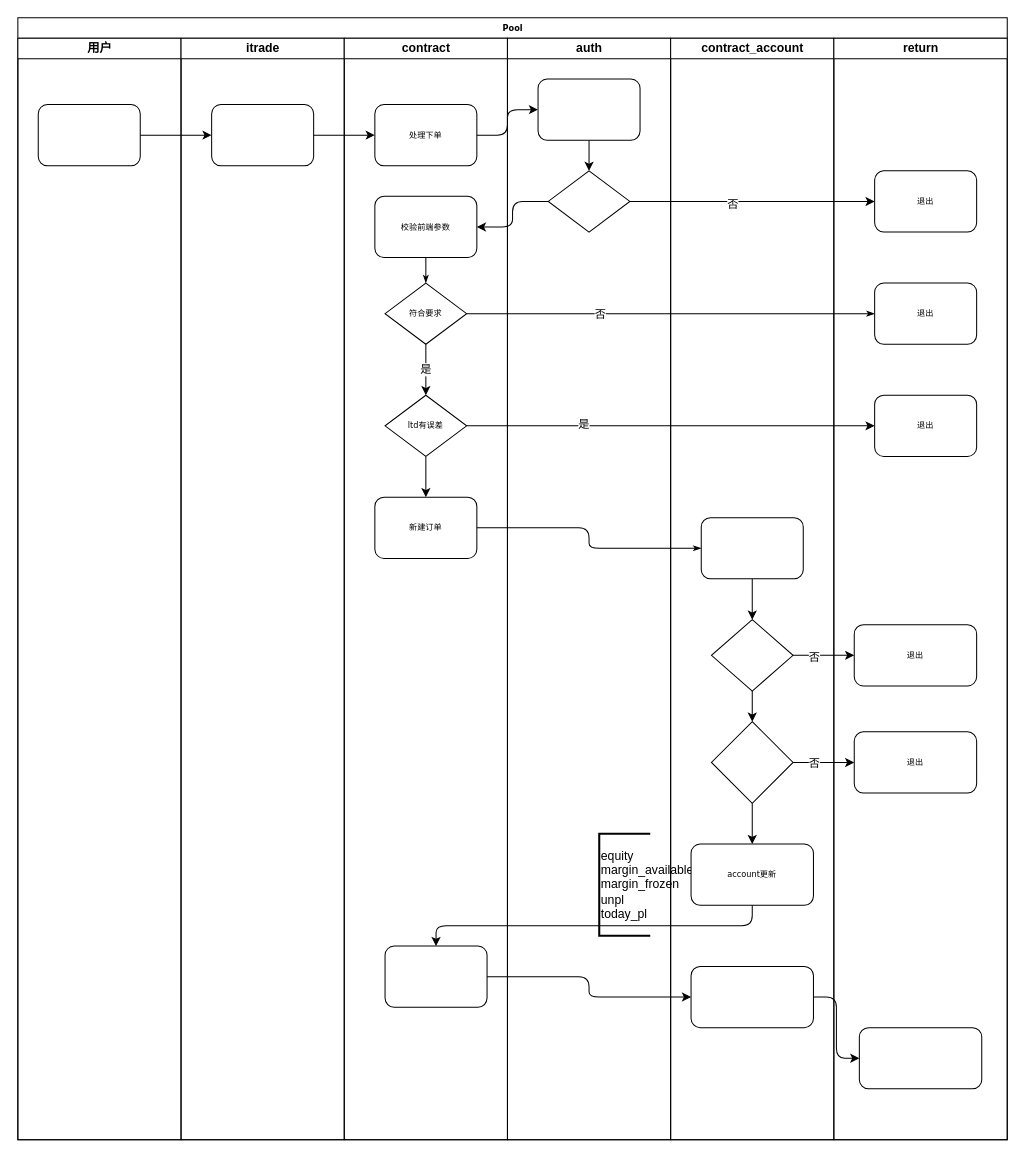
Image size: 1025x1158. Some labels were removed from this diagram. Each missing label, with the centre of its shape:
equity>0: pixel 751 762
order入队: pixel 435 976
下单: pixel 88 135
下单完成: pixel 920 1058
已登录: pixel 588 201
接收前端参数: pixel 262 135
更新mysql 更新redis: pixel 751 996
校验登录态 获取uid: pixel 588 109
读取mysql账户信息: pixel 751 548
账户存在: pixel 751 655
